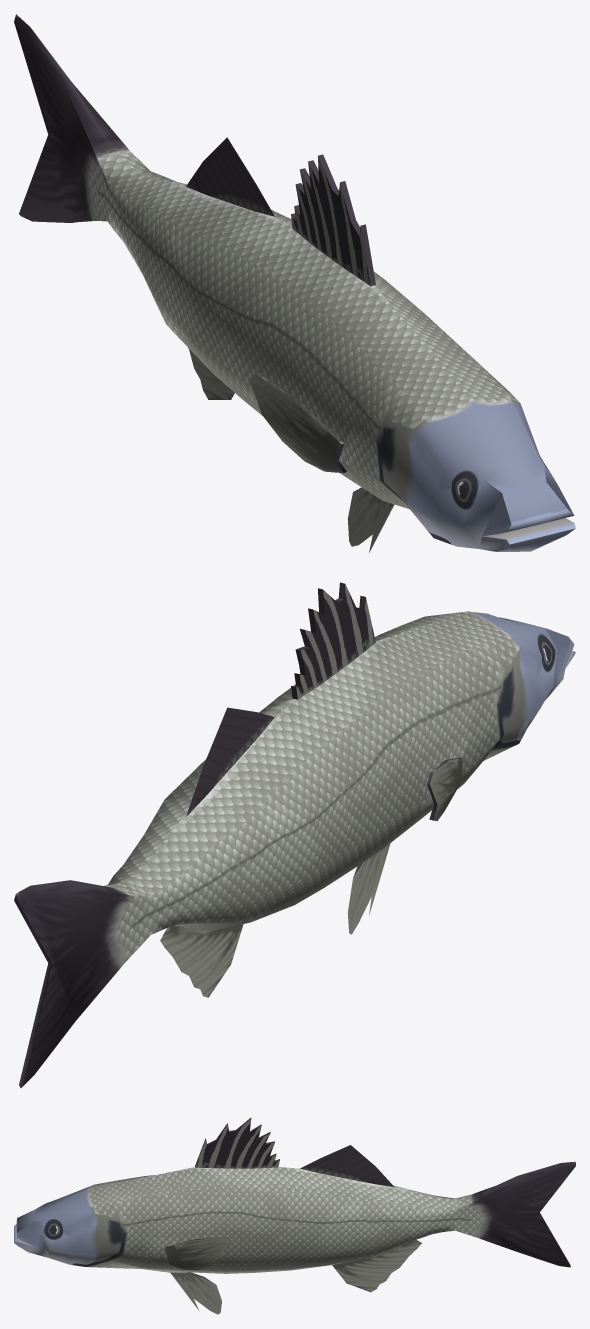
The model's file is Dicentrarchus_labrax.fbx.
3 renders of one model, top to bottom at view 1: azimuth 30°, elevation 25°; view 2: azimuth 150°, elevation 25°; view 3: azimuth 270°, elevation 25°, orthographic. The views are drawn at different scales.
Visible parts, largest first — view 1: Lubina; view 2: Lubina; view 3: Lubina.
Boxes of the visible parts, left/top/right/bottom form: Lubina: left=14, top=14, right=575, bottom=552; Lubina: left=14, top=582, right=575, bottom=1087; Lubina: left=14, top=1117, right=575, bottom=1314.
Size of the model in its own units: 93.56 by 183 by 474.
